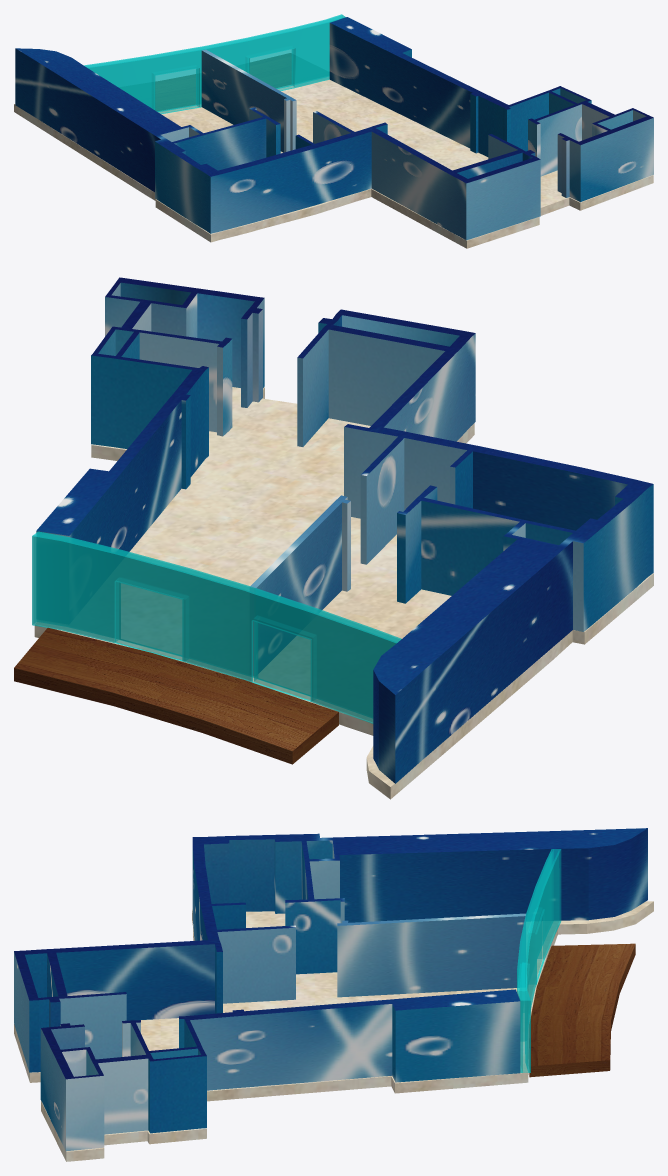
Rendered from unit2.fbx.
The picture shows the model from 3 angles, top to bottom: view 1: azimuth 30°, elevation 25°; view 2: azimuth 150°, elevation 25°; view 3: azimuth 270°, elevation 25°; orthographic projection. The views are drawn at different scales.
Visible parts, largest first — view 1: polySurface1, pCube1, polySurface3, pCube2; view 2: polySurface1, pCube1, polySurface3, pCube2; view 3: polySurface1, pCube1, pCube2, polySurface3.
Boxes of the visible parts, box(x1,y1,x2,y2) form: polySurface1: box(15, 17, 653, 240); pCube1: box(14, 77, 653, 248); polySurface3: box(84, 14, 345, 114); pCube2: box(155, 53, 291, 110); polySurface1: box(36, 277, 653, 783); pCube1: box(34, 387, 653, 799); polySurface3: box(32, 531, 401, 723); pCube2: box(14, 627, 338, 764); polySurface1: box(14, 828, 647, 1151); pCube1: box(14, 901, 653, 1161); pCube2: box(529, 943, 635, 1077); polySurface3: box(517, 849, 561, 1072).
Bounding box in the file's own units: 13.29 × 2.04 × 14.31.
Materials: 4 (3 with a texture image).
